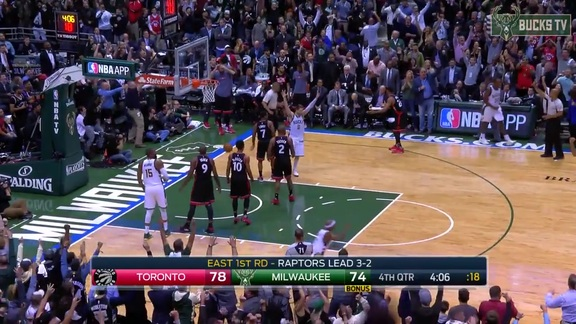basketball: (221, 140, 235, 155)
basketball player: (123, 146, 174, 242), (181, 138, 224, 243), (280, 91, 321, 180), (265, 129, 305, 206), (369, 89, 411, 161), (228, 138, 257, 232), (254, 112, 277, 146)
